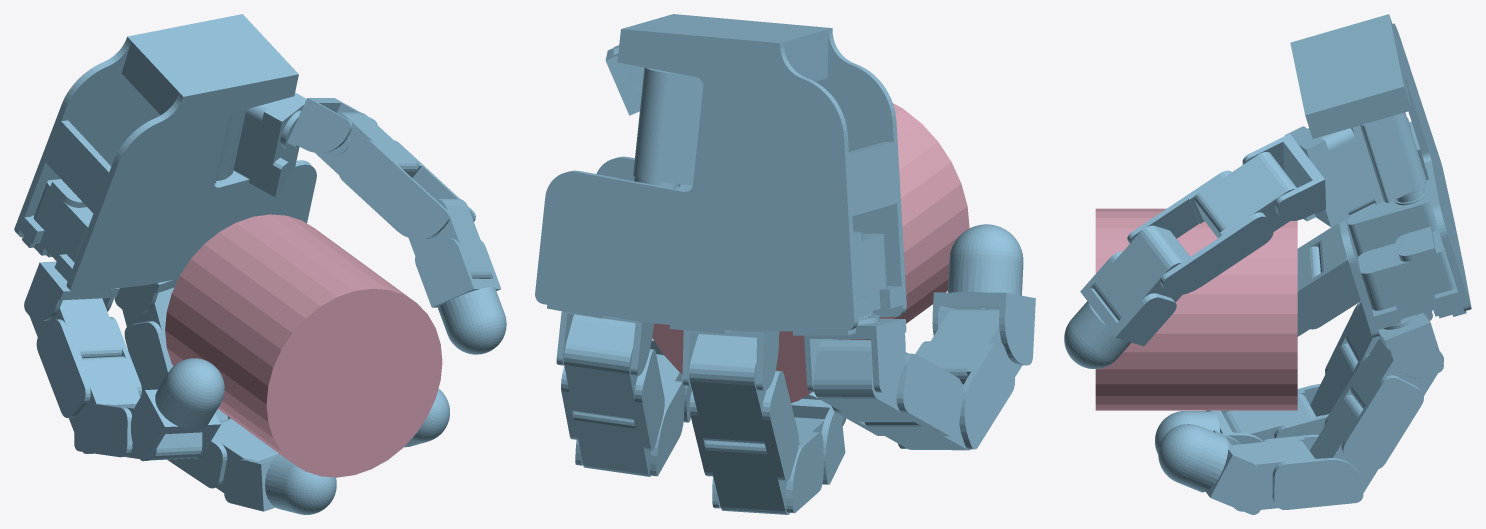
3 renders of one model, left to right at view 1: azimuth 30°, elevation 25°; view 2: azimuth 150°, elevation 25°; view 3: azimuth 270°, elevation 25°, orthographic. The views are drawn at different scales.
Visible parts, largest first — view 1: world, cylinder_medium.stl; view 2: world, cylinder_medium.stl; view 3: world, cylinder_medium.stl.
Part boxes in pixels (box(x1,y1,x2,y2)): world: box(14, 14, 506, 514); cylinder_medium.stl: box(165, 214, 442, 477); world: box(535, 14, 1035, 514); cylinder_medium.stl: box(652, 103, 969, 402); world: box(1064, 14, 1471, 514); cylinder_medium.stl: box(1095, 208, 1297, 410).
Bounding box in the file's own units: 0.1558 × 0.1847 × 0.1613.
